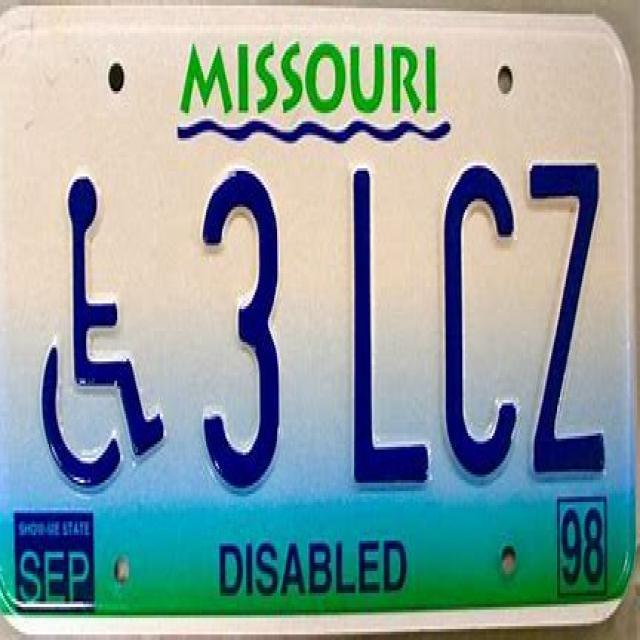symbol_of_access: (36, 170, 174, 500)
